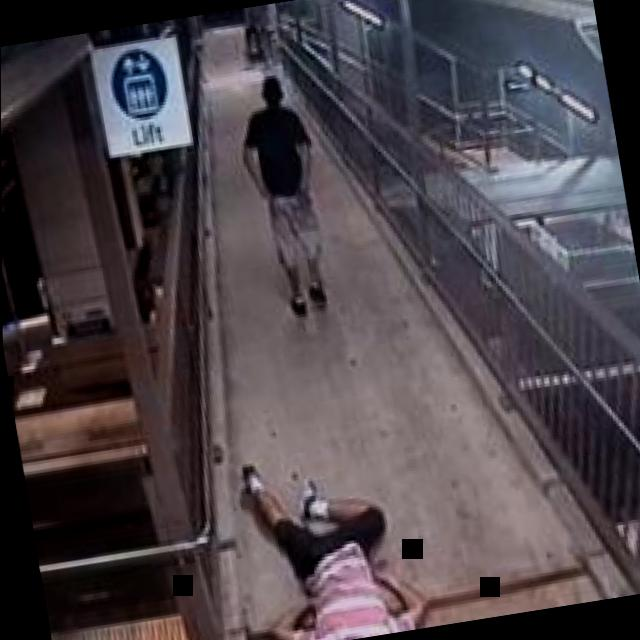Fall-Detected: (203, 416, 424, 640)
